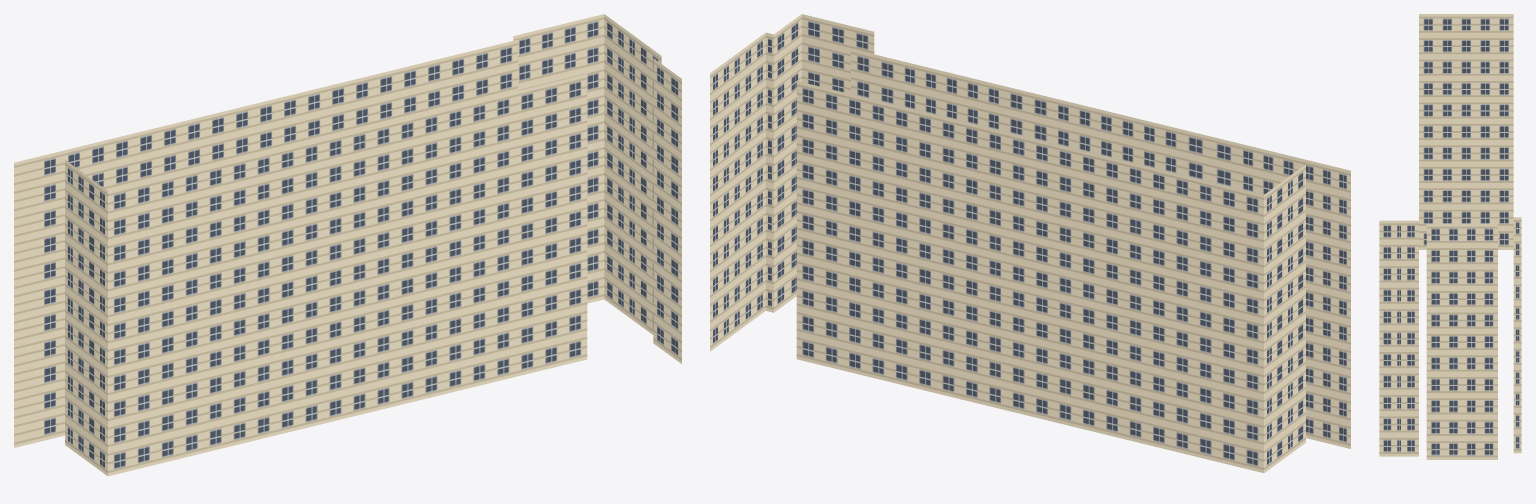
3 renders of one model, left to right at view 1: azimuth 30°, elevation 25°; view 2: azimuth 150°, elevation 25°; view 3: azimuth 270°, elevation 25°, orthographic. The views are drawn at different scales.
Bounding box in the file's own units: 72 × 33 × 18.
Materials: 3 (2 with a texture image).
